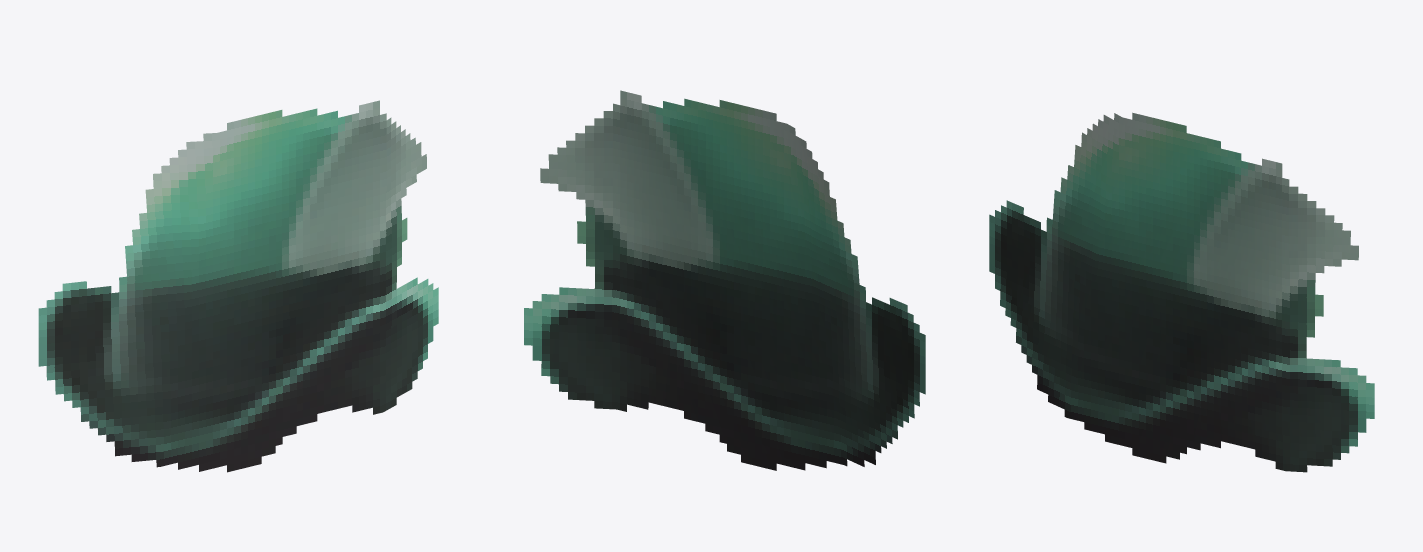
Rendered from Cat Prop Green Round Hat.FBX.
3 views of the same model, side by side, from view 1: azimuth 30°, elevation 25°; view 2: azimuth 150°, elevation 25°; view 3: azimuth 330°, elevation 25° (orthographic). The views are drawn at different scales.
Parts seen in each view (by area): view 1: Green Round Hat; view 2: Green Round Hat; view 3: Green Round Hat.
Part boxes in pixels (<box>): Green Round Hat: <box>38,100,438,472</box>; Green Round Hat: <box>524,90,925,470</box>; Green Round Hat: <box>989,112,1374,472</box>.
Bounding box in the file's own units: 58.61 × 5.61 × 57.1.
